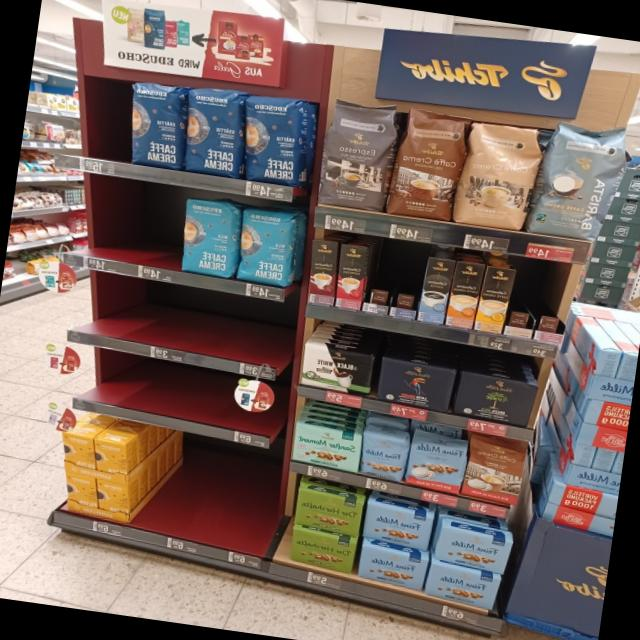BM Gemahlen: (452, 372, 540, 428)
BW Gemahlen: (296, 342, 376, 398)
Barista CC: (531, 118, 631, 244)
CC Mild: (454, 118, 546, 234)
CC Vollmundig: (459, 437, 526, 506)
CC Vollmundig 36 Pads: (387, 106, 471, 223)
Empty Shelf: (534, 272, 575, 333), (505, 270, 546, 330), (362, 246, 398, 307), (389, 250, 425, 310)
Espresso M Art: (316, 96, 402, 214)
FM 36 Pads: (404, 427, 471, 496)
FM Bohne: (358, 431, 410, 484)
FM Gemahlen: (433, 523, 514, 576), (422, 559, 502, 612), (361, 499, 435, 554), (356, 542, 429, 592)
Herzhatfe Mundig: (292, 487, 365, 539), (288, 526, 357, 573)
LG Gemahlen: (374, 356, 458, 413)
SM Gemahlen: (290, 423, 362, 472)
Simo CCMild bigpack: (444, 261, 486, 330)
Simo CCVollmundig bigpack: (474, 265, 516, 334)
Simo Es Brazil: (334, 243, 368, 311)
Simo Es Caramel: (308, 240, 339, 307)
Simo Es Vanilla: (416, 257, 455, 325)
